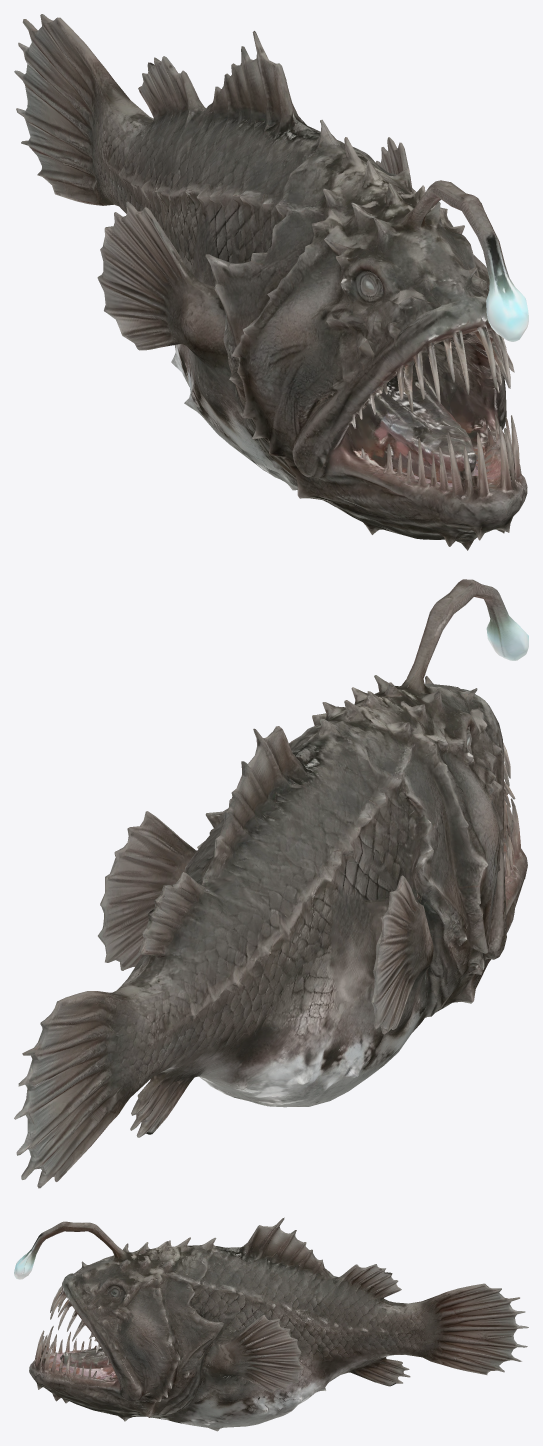
The model's file is AnglerFish-web.glb.
3 views of the same model, one above another, from view 1: azimuth 30°, elevation 25°; view 2: azimuth 150°, elevation 25°; view 3: azimuth 270°, elevation 25° (orthographic). The views are drawn at different scales.
Visible parts, largest first — view 1: Mesh_0; view 2: Mesh_0; view 3: Mesh_0.
Boxes of the visible parts, box(x1,y1,x2,y2) form: Mesh_0: box(14, 14, 528, 550); Mesh_0: box(14, 579, 528, 1188); Mesh_0: box(14, 1217, 528, 1431).
Size of the model in its own units: 0.6055 by 0.8495 by 1.91.
Materials: 1 (1 with a texture image).
